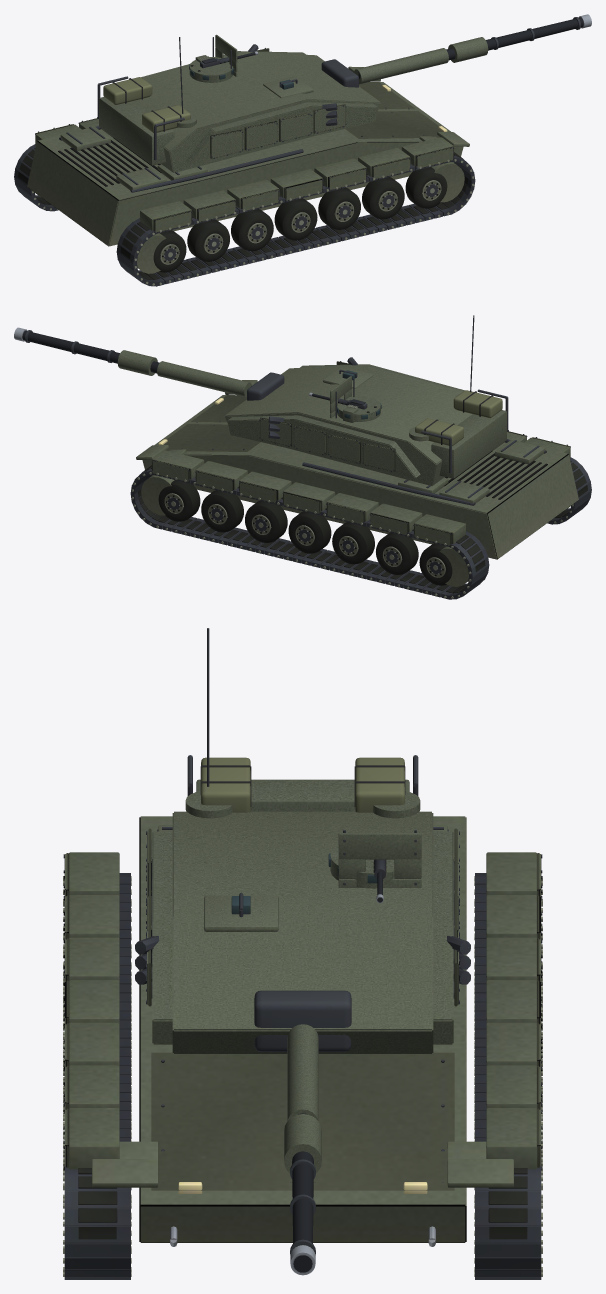
File: tank.glb
3 renders of one model, top to bottom at view 1: azimuth 30°, elevation 25°; view 2: azimuth 150°, elevation 25°; view 3: azimuth 270°, elevation 25°, orthographic. The views are drawn at different scales.
Visible parts, largest first — view 1: body, turret, cannon, wheel_3, wheel_4, wheel_1, wheel_5, wheel_2, wheel_6, wheel_0, gun_shield, gun; view 2: body, turret, cannon, wheel_10, wheel_12, wheel_9, wheel_8, wheel_11, wheel_13, wheel_7, gun_shield, gun; view 3: body, turret, cannon, gun_shield.
Boxes of the visible parts, left/top/right/bottom form: body: left=14, top=66, right=475, bottom=286; turret: left=97, top=37, right=381, bottom=172; cannon: left=354, top=14, right=591, bottom=84; wheel_3: left=274, top=198, right=317, bottom=240; wheel_4: left=318, top=187, right=360, bottom=229; wheel_1: left=187, top=219, right=229, bottom=261; wheel_5: left=362, top=177, right=404, bottom=219; wheel_2: left=231, top=209, right=273, bottom=251; wheel_6: left=405, top=167, right=447, bottom=208; wheel_0: left=153, top=230, right=186, bottom=272; gun_shield: left=212, top=34, right=237, bottom=76; gun: left=190, top=51, right=258, bottom=71; body: left=130, top=380, right=591, bottom=599; turret: left=224, top=315, right=508, bottom=485; cannon: left=14, top=327, right=251, bottom=397; wheel_10: left=288, top=511, right=331, bottom=553; wheel_12: left=201, top=490, right=243, bottom=532; wheel_9: left=332, top=522, right=374, bottom=564; wheel_8: left=376, top=532, right=418, bottom=574; wheel_11: left=245, top=501, right=287, bottom=542; wheel_13: left=158, top=480, right=200, bottom=521; wheel_7: left=419, top=543, right=452, bottom=585; gun_shield: left=330, top=376, right=354, bottom=418; gun: left=309, top=392, right=376, bottom=422; body: left=63, top=816, right=542, bottom=1279; turret: left=135, top=628, right=470, bottom=1053; cannon: left=284, top=1024, right=321, bottom=1275; gun_shield: left=338, top=830, right=421, bottom=887.
Bounding box in the file's own units: 10.15 × 3.89 × 4.05.
Materials: 6 (6 with a texture image).
